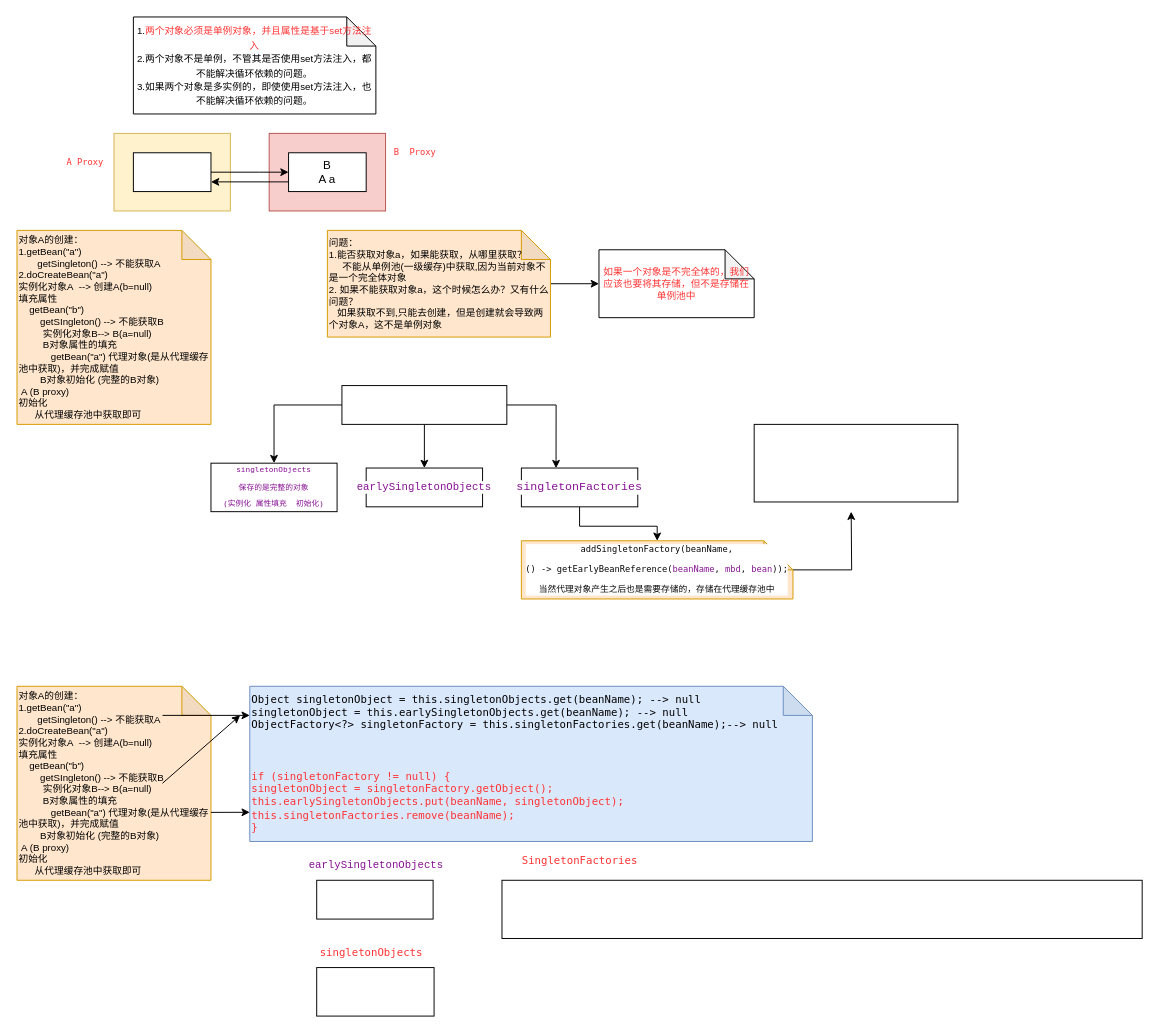
The diagram is 1159 pixels wide and 1033 high, and some of its shapes have lost their labels. Each missing label, with the centre of its shape:
A B b: (171,172)
addSingletonFactory(a, () -> getEarlyBeanReference( beanName , mbd , bean )) 删除了: (821,908)
DefaultSingletonBeanRegistry: (424,404)
Proxy A: (374,899)
Proxy B Proxy A: (375,991)
存储了一个不完全体的a，里面存储的是一个方法？ 这个方法的作用？其实就是可以对当前这个对象进行代理对象的产生。 这个lambda表达式其实就是在产生代理对象。: (855,462)
